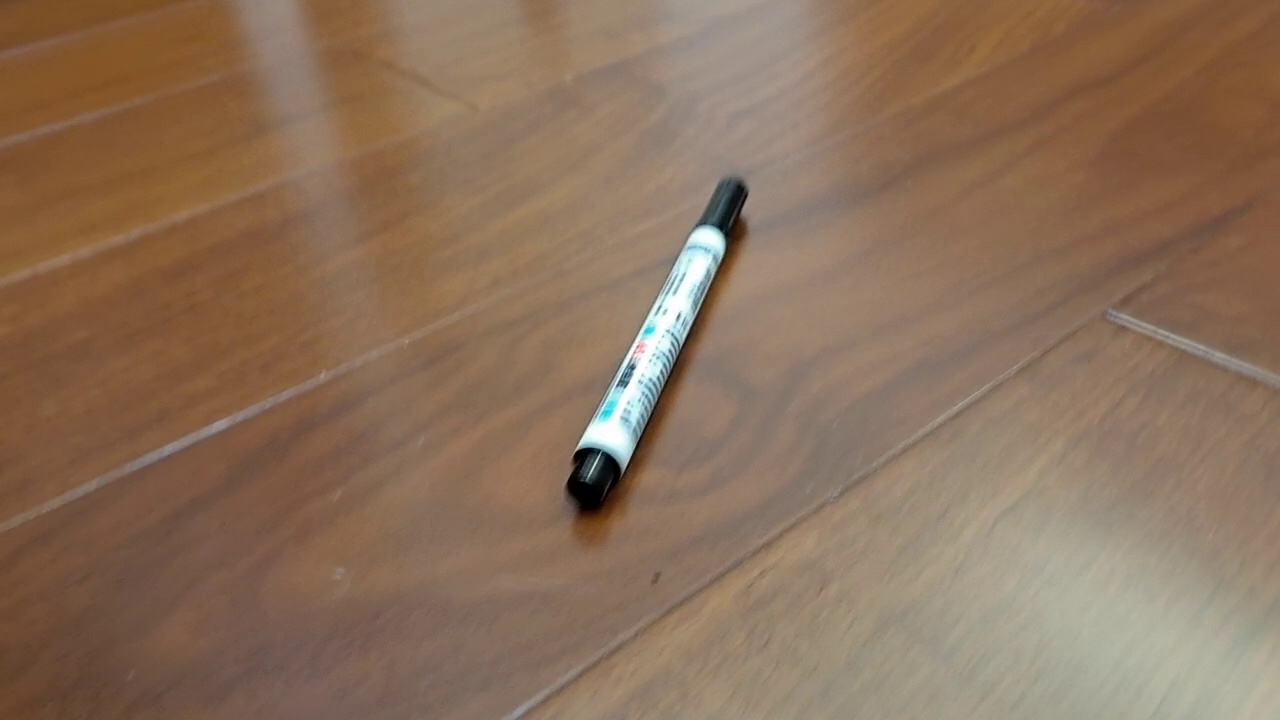pen: (563, 174, 750, 514)
